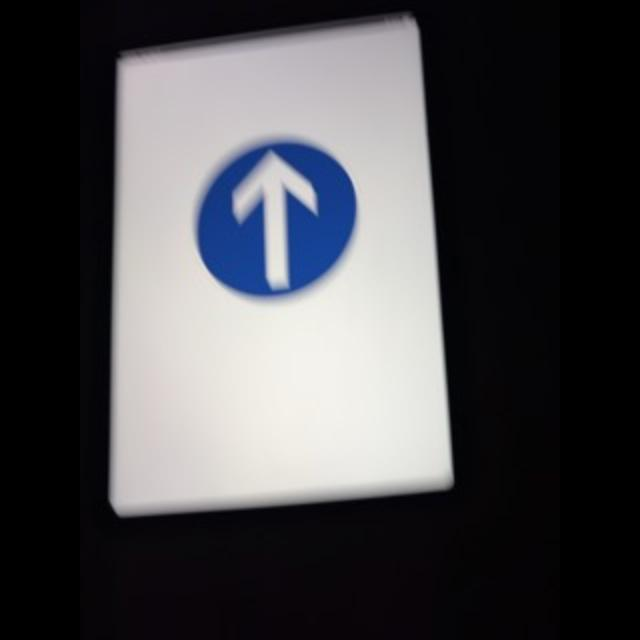GO FORWARD: (192, 136, 360, 296)
